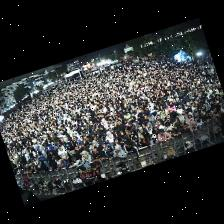person: (123, 141, 140, 163), (58, 146, 70, 165), (36, 151, 49, 168), (63, 138, 74, 156), (136, 133, 149, 148), (79, 142, 91, 157), (92, 148, 105, 161), (44, 140, 55, 155), (157, 130, 170, 142), (171, 124, 183, 137), (113, 146, 125, 158), (105, 131, 113, 148), (54, 157, 65, 169), (81, 151, 91, 164), (71, 153, 81, 166), (119, 130, 128, 143), (129, 129, 137, 143), (163, 122, 172, 134), (92, 141, 102, 151), (93, 135, 102, 146), (90, 127, 99, 138), (113, 138, 122, 149), (202, 112, 211, 123), (106, 146, 113, 160), (163, 115, 173, 124), (149, 135, 158, 145), (176, 112, 184, 123), (102, 141, 108, 155), (25, 164, 33, 174), (195, 115, 201, 128), (136, 127, 142, 140), (152, 124, 159, 135), (39, 148, 46, 159), (209, 111, 216, 121), (189, 122, 196, 132), (146, 123, 152, 134), (160, 109, 166, 120), (94, 175, 103, 182), (155, 121, 162, 129), (176, 105, 182, 114), (182, 110, 187, 120), (18, 168, 25, 175)
